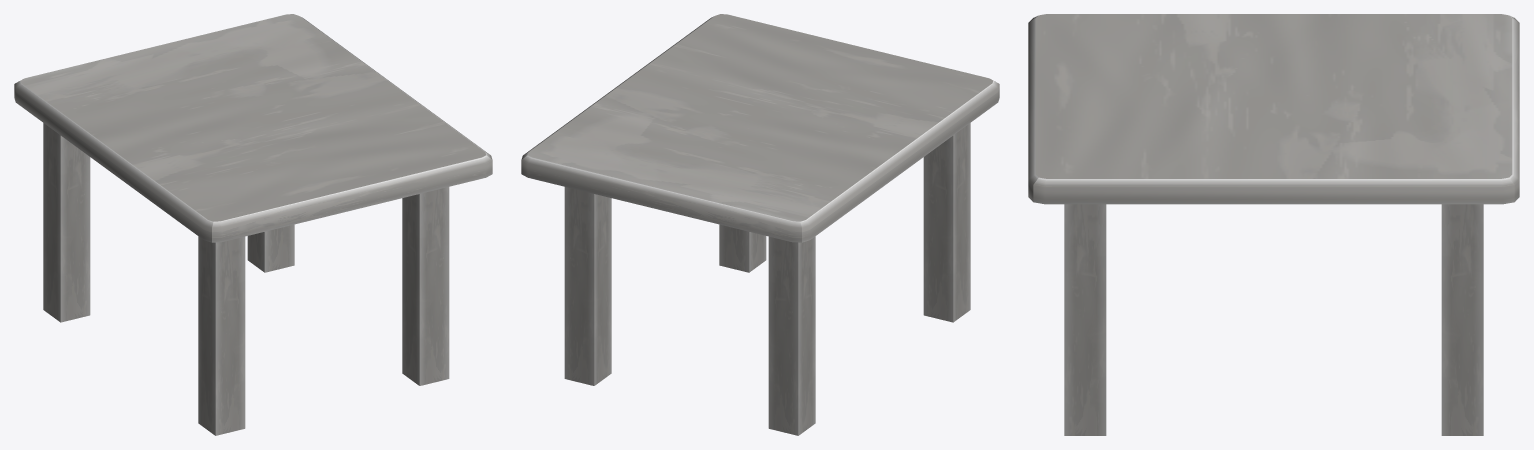
The model's file is table.fbx.
3 renders of one model, left to right at view 1: azimuth 30°, elevation 25°; view 2: azimuth 150°, elevation 25°; view 3: azimuth 270°, elevation 25°, orthographic. The views are drawn at different scales.
Visible parts, largest first — view 1: Plane; view 2: Plane; view 3: Plane.
Part boxes in pixels (left/top/right/bottom): Plane: left=14, top=14, right=492, bottom=435; Plane: left=521, top=14, right=999, bottom=435; Plane: left=1028, top=14, right=1519, bottom=435.
Bounding box in the file's own units: 165 × 123 × 200.
